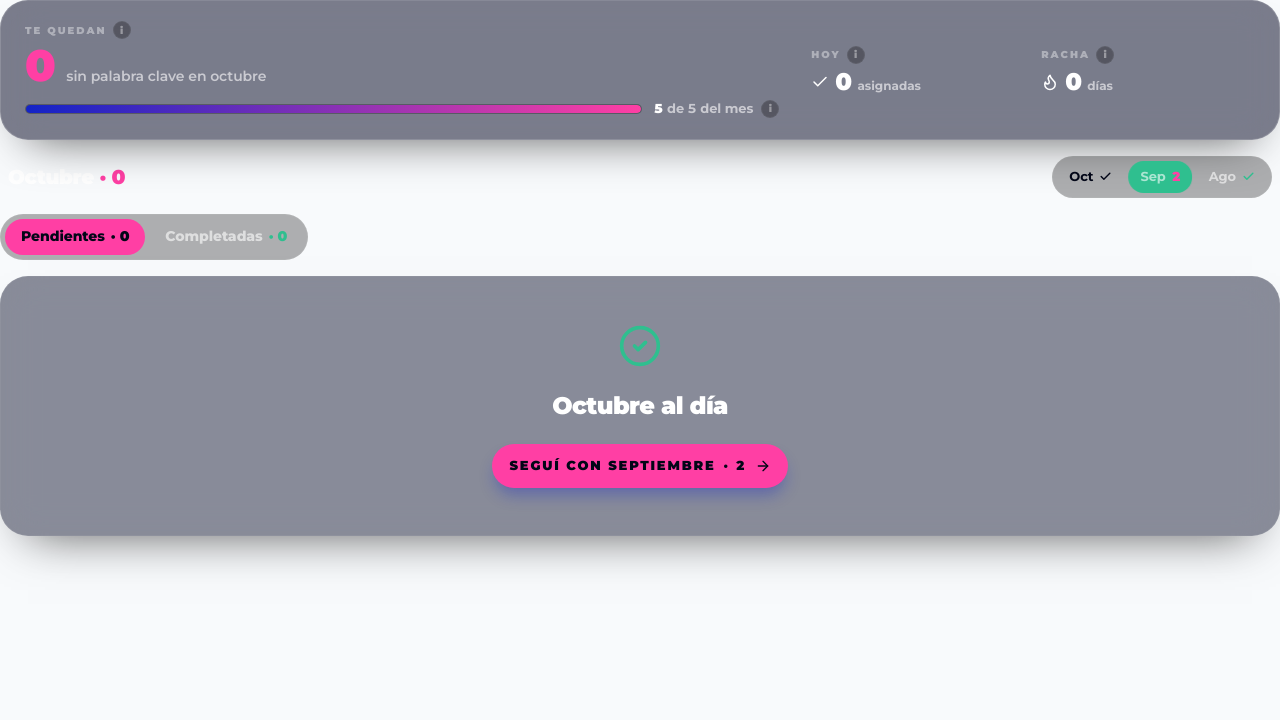
Test: MisAgendas · un mes por vez › vaciar el último mes que quedaba es el premio final
The image size is (1280, 720).
Expected: the element named "Tu avance" is shown, [0,0,1279,140]
Expected: the heading "Octubre al día" is shown, [552,388,728,424]
Click the button "Seguí con septiembre · 2" at (640,466), box [492,444,788,488]
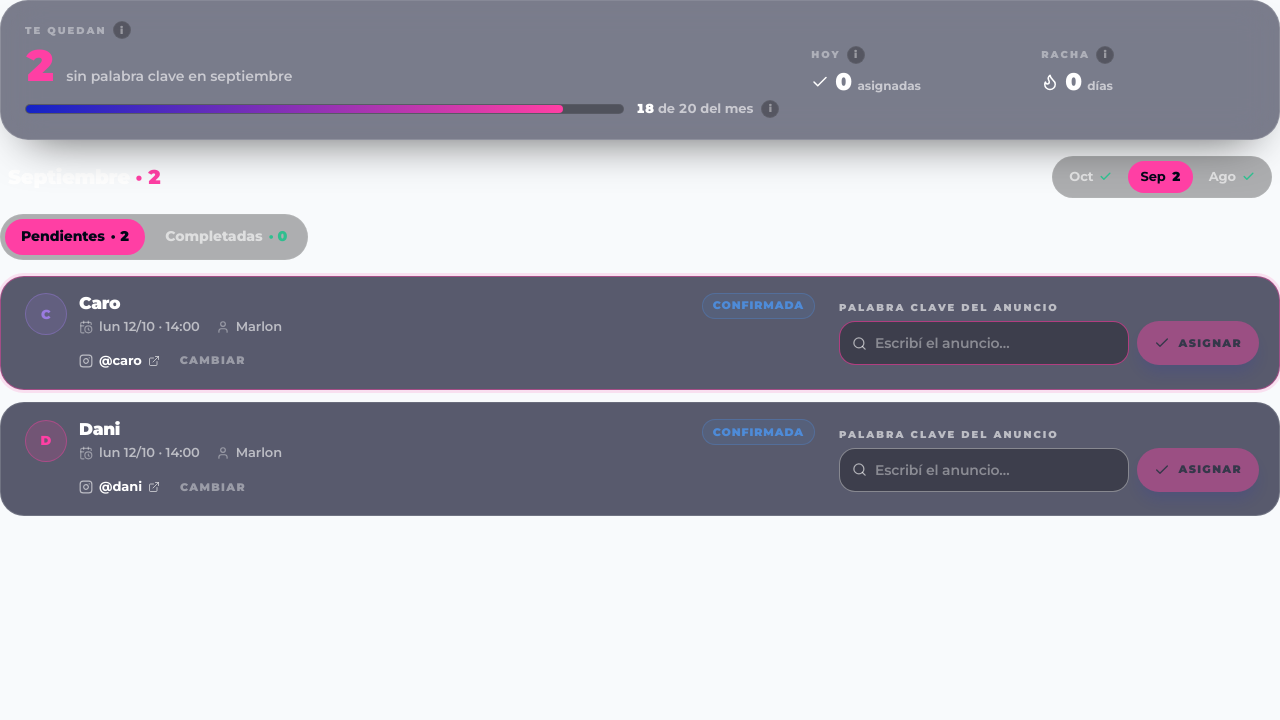
Type "guia" into the 1st dropdown labelled "Palabra clave del anuncio" at (999,343), box [875,322,1122,364]
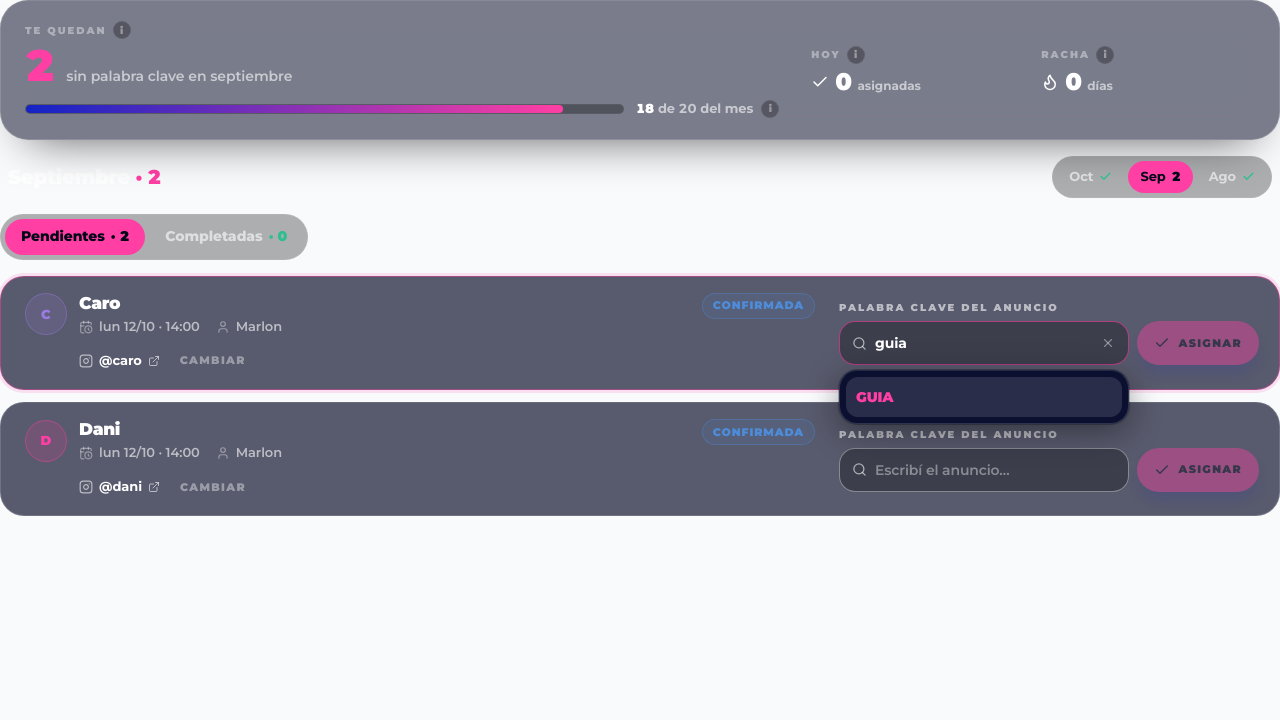
Press Enter in the 1st dropdown labelled "Palabra clave del anuncio", box [875,322,1086,364]
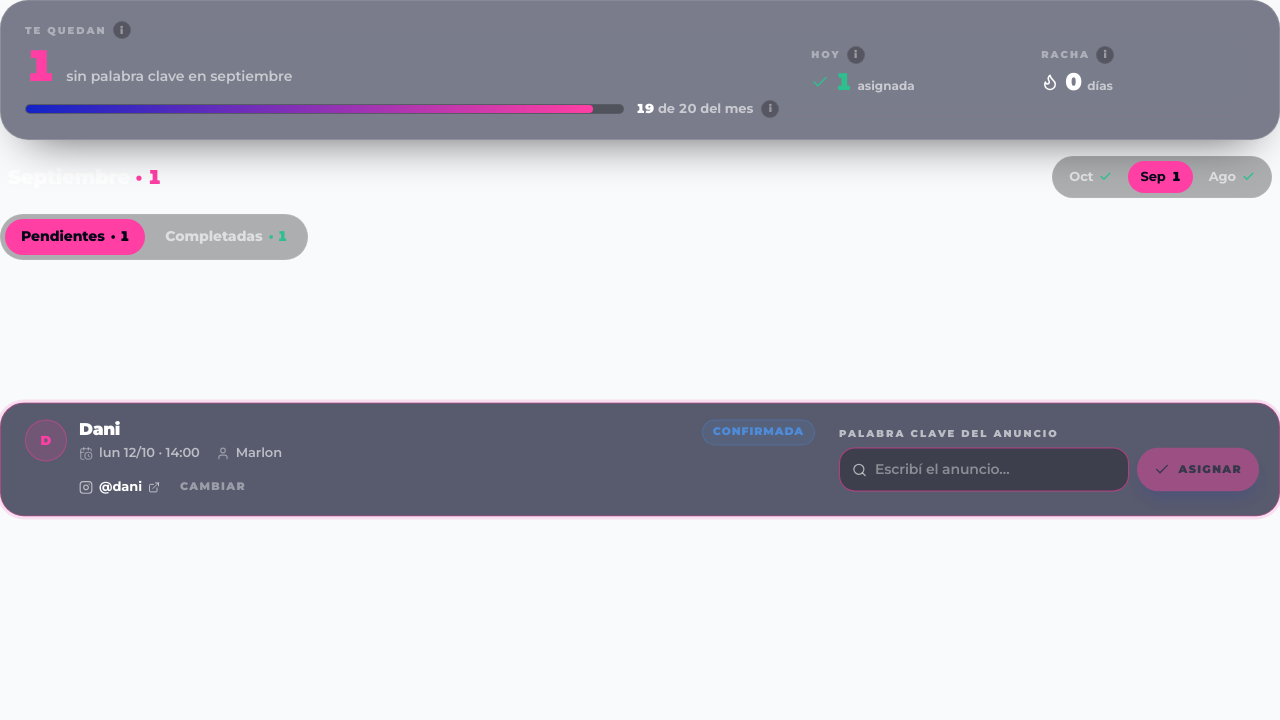
Type "guia" into the dropdown at (999,470), box [875,449,1122,491]
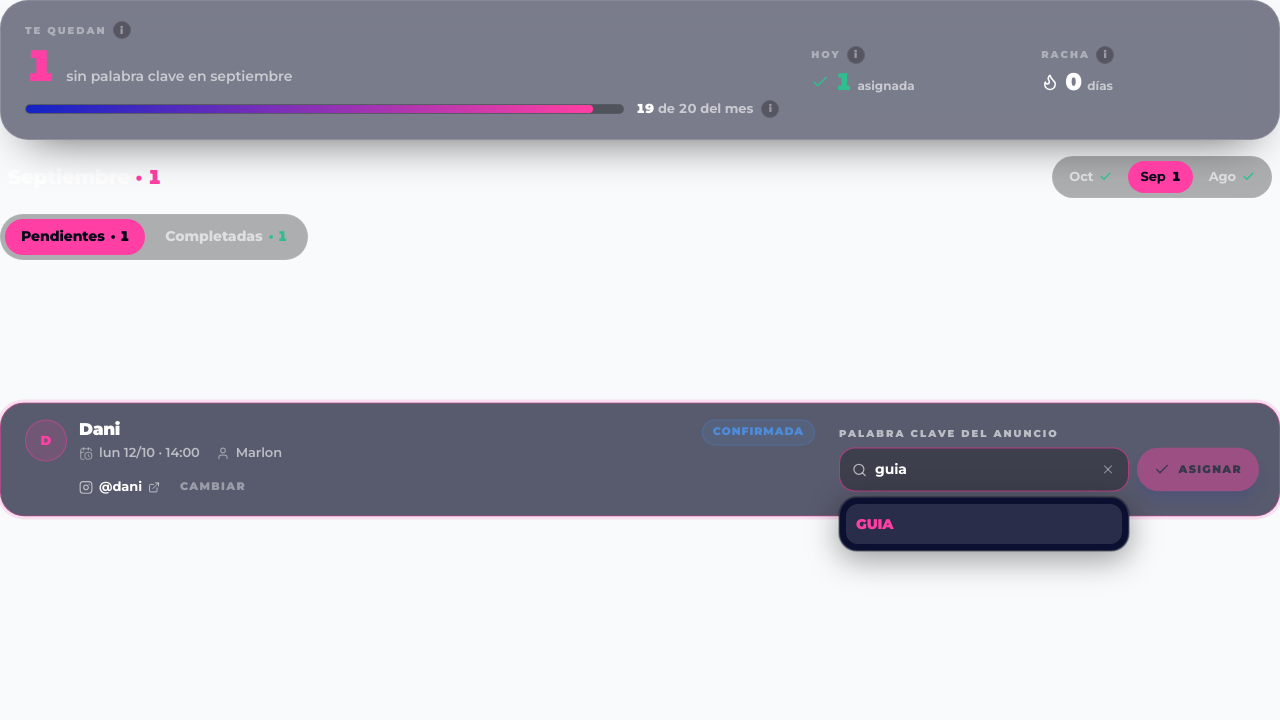
Press Enter in the dropdown, box [875,449,1086,491]
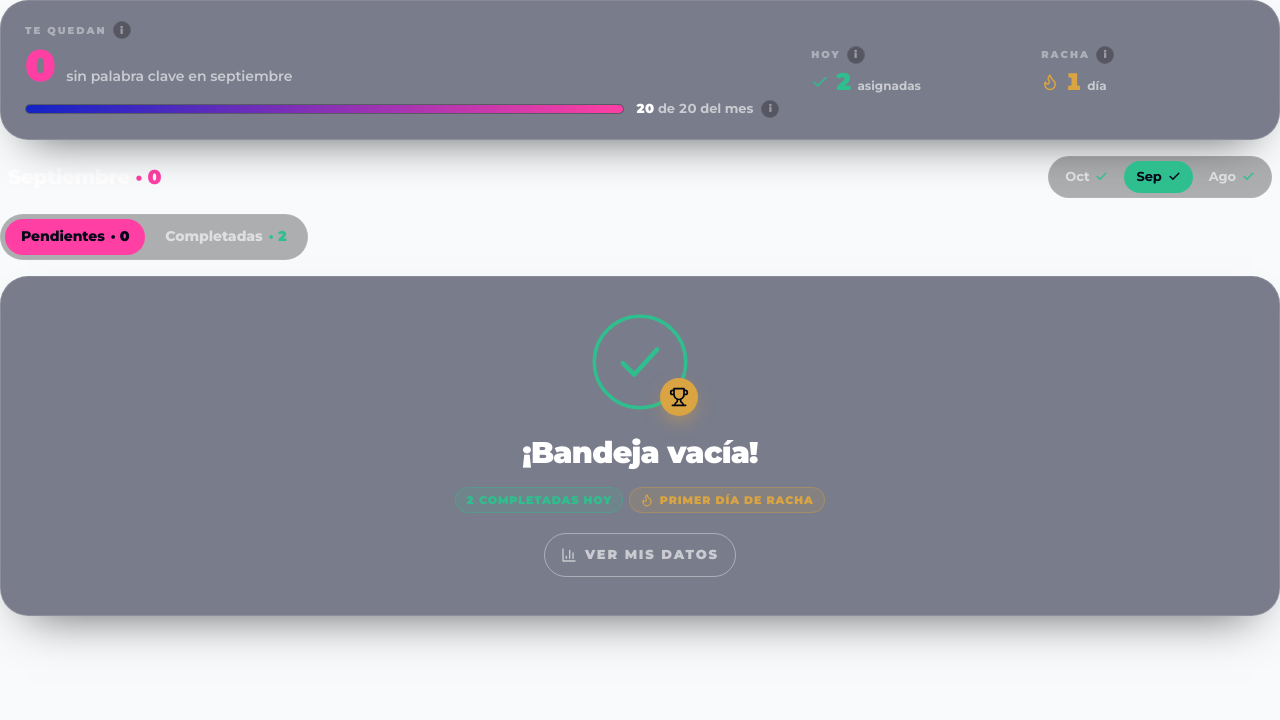
Expected: the button "Seguí con" is not shown
Expected: the heading "¡Bandeja vacía!" is shown, [522,430,758,475]
